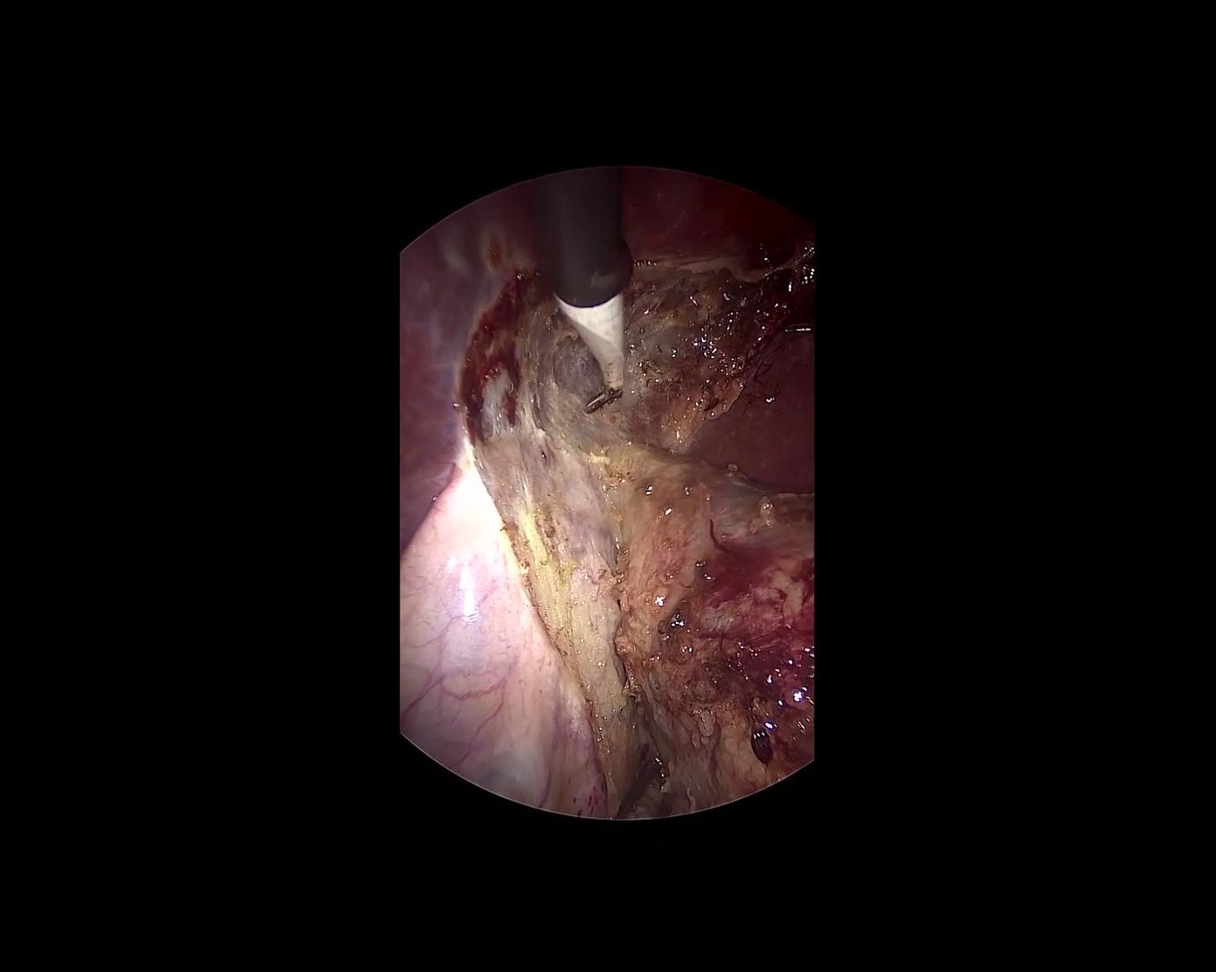Cautery: (538, 171, 632, 413)
Gallbladder: (402, 442, 813, 816)
Liver: (258, 50, 806, 551), (692, 330, 813, 492)
